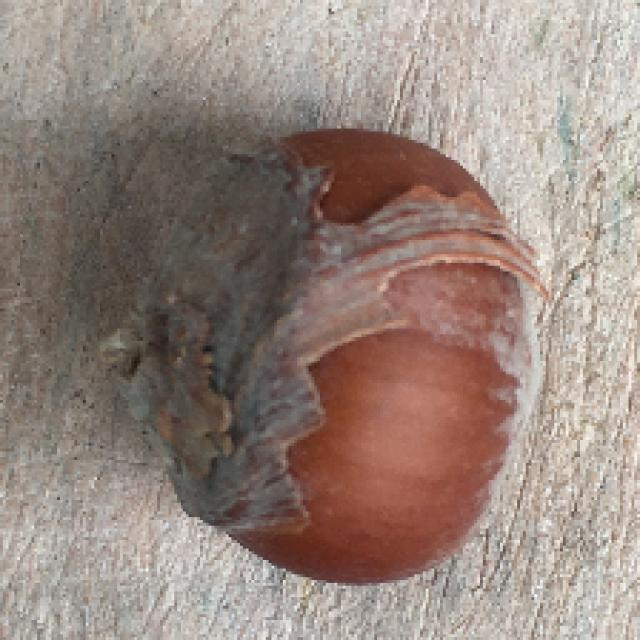damagedHazelnut: (98, 123, 541, 590)
